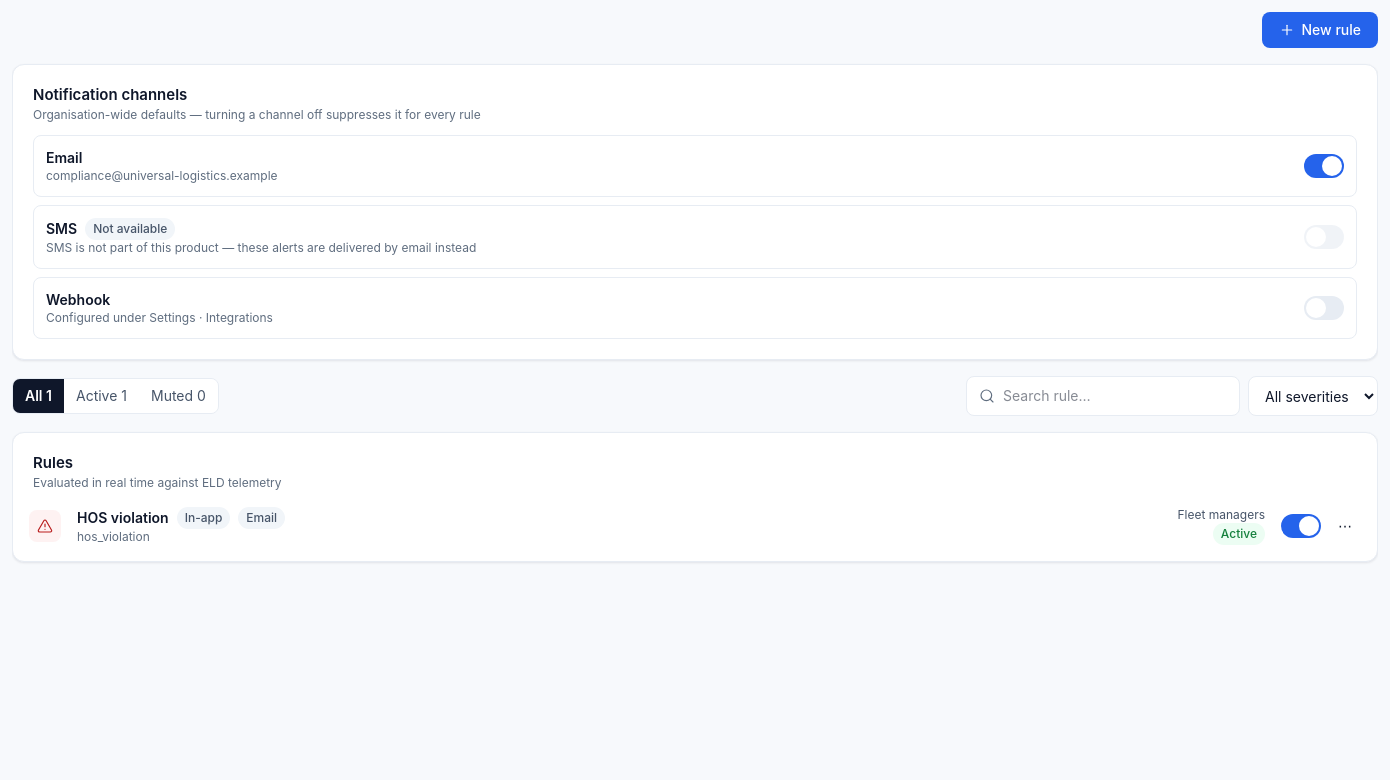
it: AlertRulesPage — stage-2 row actions › Test rule sends POST /alert-rules/:id/test (B-9, shipped)
Check: the text "HOS violation" is shown, box [77,509,169,526]
Click the button named "Rule actions" at [1345, 526], box [1329,510,1361,542]
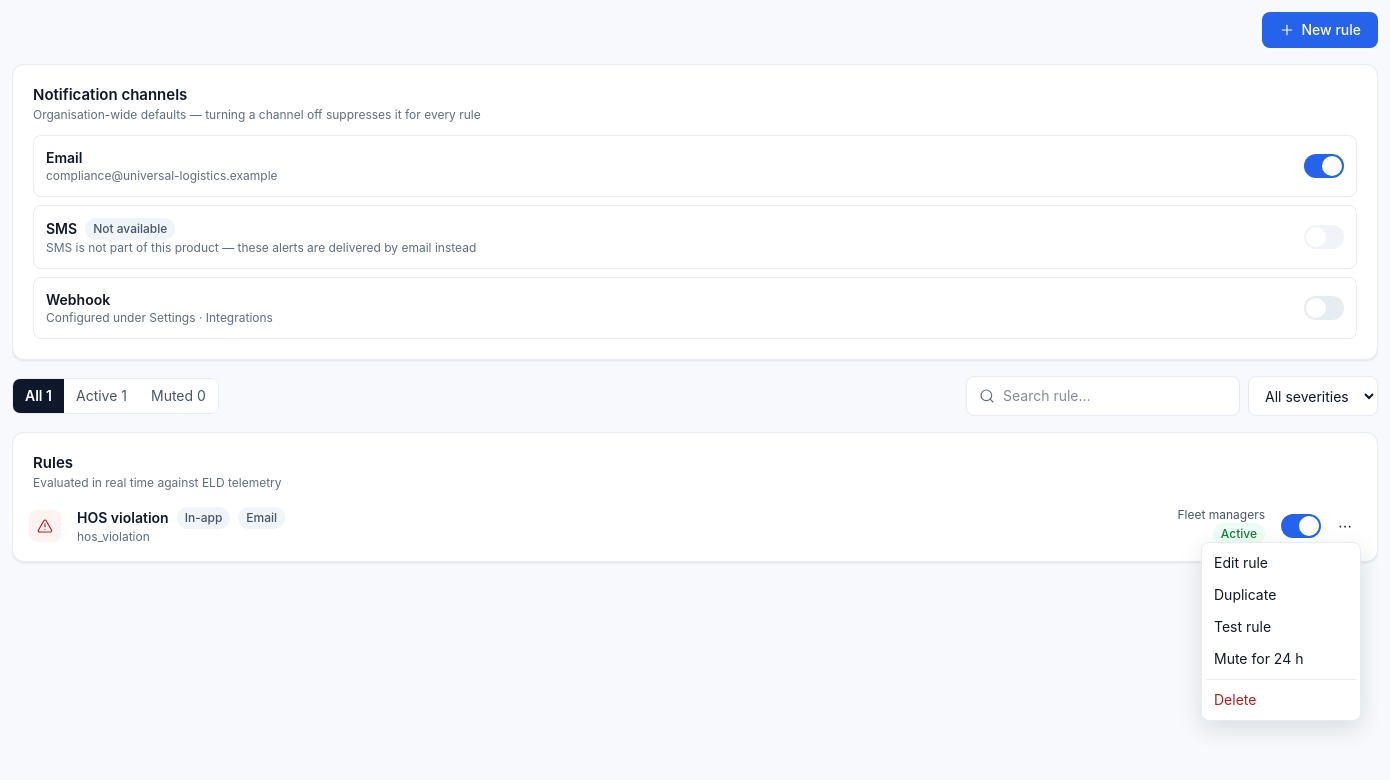
Click the menu item "Test rule" at [1243, 626], box [1214,618,1271,635]
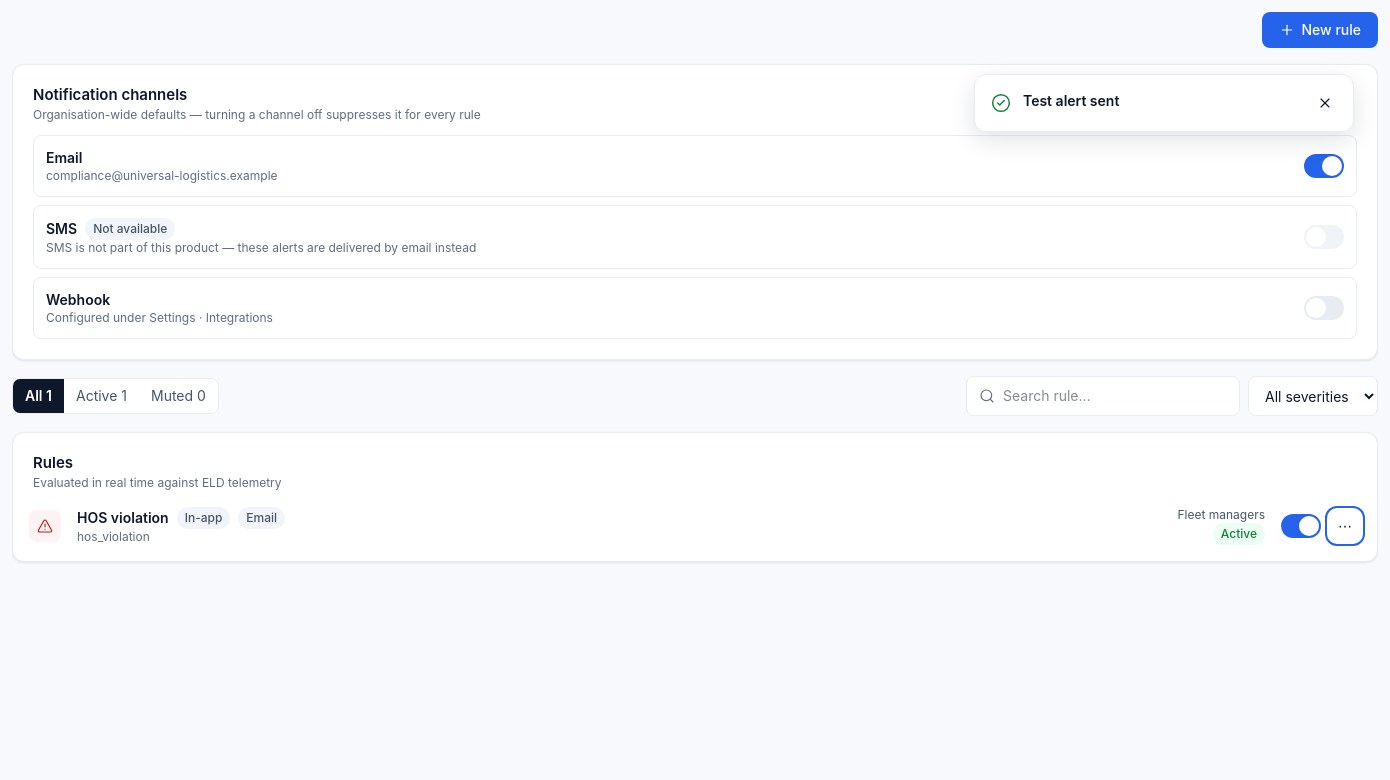
Check: the text "Test alert sent" is shown, box [1023,92,1119,109]
